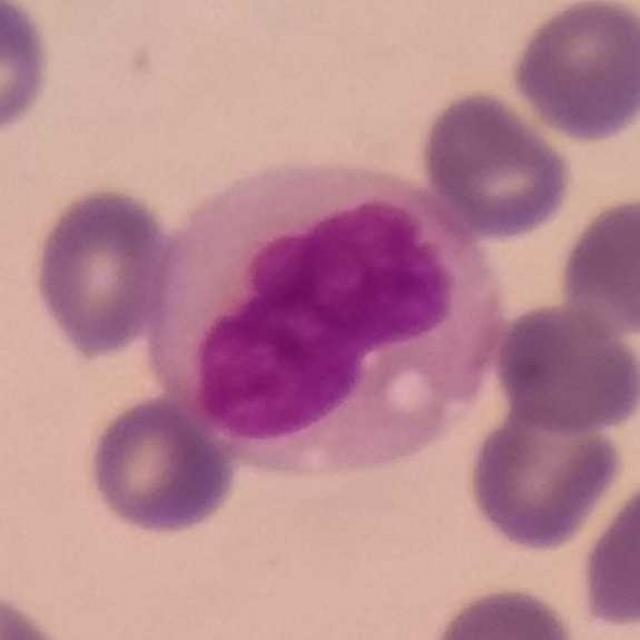Monocyte: (149, 158, 504, 479)
RBC: (462, 385, 629, 556), (28, 182, 185, 360), (415, 85, 578, 242), (82, 392, 240, 539), (489, 300, 640, 439), (505, 0, 640, 145), (554, 190, 640, 341), (575, 466, 640, 634), (422, 581, 585, 640), (0, 0, 58, 141), (0, 585, 71, 640)
